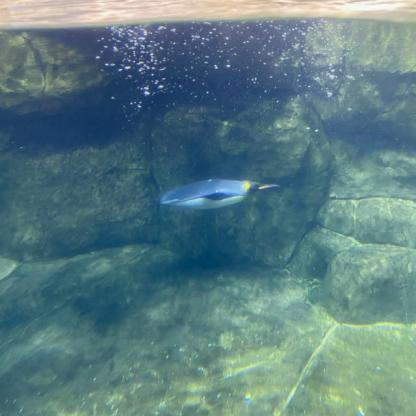penguin: (150, 180, 282, 209)
